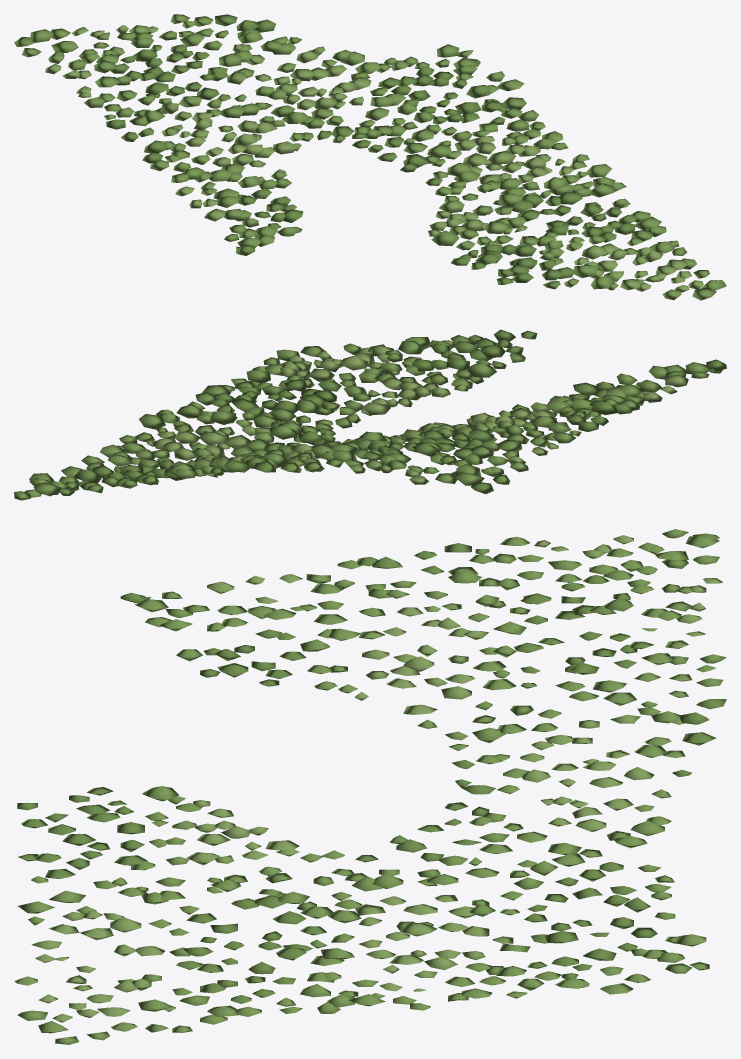
The model's file is canopy-1--6-1.glb.
The picture shows the model from 3 angles, top to bottom: view 1: azimuth 30°, elevation 25°; view 2: azimuth 150°, elevation 25°; view 3: azimuth 270°, elevation 25°; orthographic projection. The views are drawn at different scales.
Size of the model in its own units: 518 by 188 by 518.
Materials: 1 (1 with a texture image).
